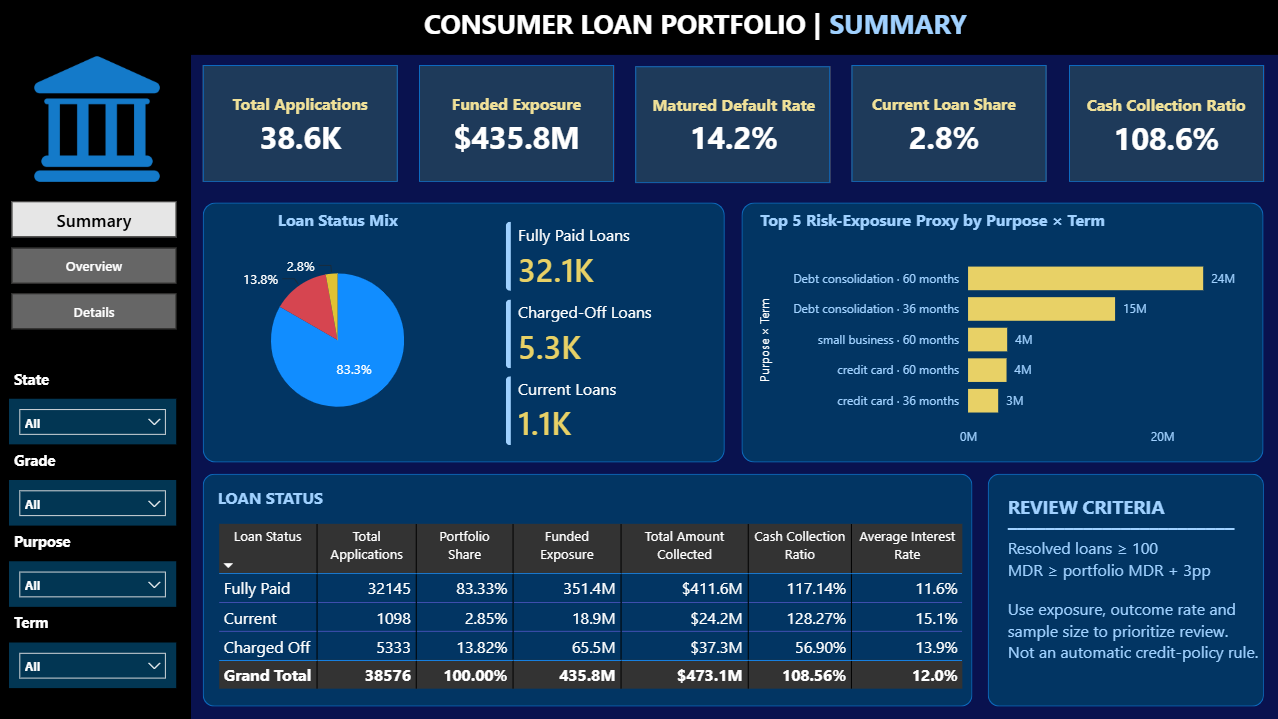

The page's visual inventory and layout, read from the dashboard file:
{"tool":"powerbi","page":{"name":"Summary","canvas":[1280,720],"ordinal":0},"visuals":[{"type":"shape","box":[0,0,1280.3,54.9],"z":0},{"type":"shape","box":[0,54.3,192,666],"z":1000},{"type":"textbox","box":[420,0,567.5,52.5],"z":2000},{"type":"shape","box":[203.4,202,522,260],"z":3000},{"type":"shape","box":[742.4,202,522,260],"z":4000},{"type":"donutChart","title":"Loan Status Mix","fields":{"Category":["bank_loan_data.loan_status"],"Y":["_Measure.Total Applications"]},"box":[213.8,208.3,250,230],"z":5000},{"type":"cardVisual","fields":{"Data":["bank_loan_data.Fully Paid Loans","_Measure.Charged-Off Loans","bank_loan_data.Current Loans"]},"box":[490.3,204.7,235.4,257.7],"z":6000},{"type":"shape","box":[203.9,474.1,769.7,232.8],"z":7000},{"type":"tableEx","title":"LOAN STATUS","fields":{"Values":["bank_loan_data.loan_status","_Measure.Total Applications","_Measure.Portfolio Share","_Measure.Funded Exposure","bank_loan_data.Total Amout Collected","_Measure.Cash Collection Ratio","bank_loan_data.Average Interest Rate"]},"box":[213.5,486.2,790.2,209.9],"z":8000},{"type":"slicer","title":"State","fields":{"Values":["bank_loan_data.grade"]},"box":[10,480,167,45.9],"z":9000},{"type":"textbox","box":[10,445,91.8,34.8],"z":10000},{"type":"slicer","title":"State","fields":{"Values":["bank_loan_data.purpose"]},"box":[10,561,167,45.9],"z":11000},{"type":"textbox","box":[10,526,91.8,34.8],"z":12000},{"type":"slicer","title":"State","fields":{"Values":["bank_loan_data.term","bank_loan_data.purpose"]},"box":[10,642,167,45.9],"z":13000},{"type":"textbox","box":[10,607.1,91.8,34.8],"z":14000},{"type":"image","box":[31.4,56.7,133.9,125.5],"z":15000},{"type":"pageNavigator","box":[12.5,201.7,165.6,130.8],"z":16000},{"type":"clusteredBarChart","title":"Top 5 Risk-Exposure Proxy by Purpose × Term","fields":{"Category":["bank_loan_data.Purpose × Term"],"Y":["_Measure.Risk-Exposure Proxy"]},"box":[756.8,208.3,521.1,245.9],"z":17000},{"type":"slicer","title":"State","fields":{"Values":["bank_loan_data.address_state"]},"box":[10,398.9,167,45.9],"z":18000},{"type":"textbox","box":[10,363.7,93.8,35],"z":19000},{"type":"shape","box":[989.3,474.1,276.3,232.8],"z":20000},{"type":"textbox","box":[1003.8,488.6,261.8,199.1],"z":21000},{"type":"shape","box":[852.8,65.3,195,117],"z":22000},{"type":"shape","box":[1069.9,65.3,195,117],"z":23000},{"type":"shape","box":[203.7,65.3,195,117],"z":24000},{"type":"shape","box":[419.7,65.3,195,117],"z":25000},{"type":"cardVisual","fields":{"Data":["_Measure.Funded Exposure"]},"box":[419.8,65.6,195.2,117.5],"z":26000},{"type":"cardVisual","fields":{"Data":["_Measure.Cash Collection Ratio"]},"box":[1056.7,68,222.2,116.6],"z":27000},{"type":"shape","box":[636.8,65.9,195,117],"z":28000},{"type":"cardVisual","fields":{"Data":["_Measure.Current Loan Share"]},"box":[843,65.6,205.6,117.5],"z":29000},{"type":"cardVisual","fields":{"Data":["_Measure.Total Applications"]},"box":[203.8,65.6,195.2,117.5],"z":30000},{"type":"cardVisual","fields":{"Data":["_Measure.Matured Default Rate"]},"box":[620.7,66.7,227.7,118],"z":31000}]}

Visuals, with their boxes in screenshot pixels (x1, y1, x2, y2), scaled from the page's 1280x720 canvas onto the 1278x719 screenshot:
shape: x1=0, y1=0, x2=1277, y2=55
shape: x1=0, y1=54, x2=192, y2=718
textbox: x1=419, y1=0, x2=986, y2=52
shape: x1=203, y1=202, x2=724, y2=461
shape: x1=741, y1=202, x2=1262, y2=461
"Loan Status Mix" donutChart: x1=213, y1=208, x2=463, y2=438
cardVisual - bank_loan_data.Fully Paid Loans x _Measure.Charged-Off Loans: x1=490, y1=204, x2=725, y2=462
shape: x1=204, y1=473, x2=972, y2=706
"LOAN STATUS" tableEx: x1=213, y1=486, x2=1002, y2=695
"State" slicer: x1=10, y1=479, x2=177, y2=525
textbox: x1=10, y1=444, x2=102, y2=479
"State" slicer: x1=10, y1=560, x2=177, y2=606
textbox: x1=10, y1=525, x2=102, y2=560
"State" slicer: x1=10, y1=641, x2=177, y2=687
textbox: x1=10, y1=606, x2=102, y2=641
image: x1=31, y1=57, x2=165, y2=182
pageNavigator: x1=12, y1=201, x2=178, y2=332
"Top 5 Risk-Exposure Proxy by Purpose × Term" clusteredBarChart: x1=756, y1=208, x2=1276, y2=454
"State" slicer: x1=10, y1=398, x2=177, y2=444
textbox: x1=10, y1=363, x2=104, y2=398
shape: x1=988, y1=473, x2=1264, y2=706
textbox: x1=1002, y1=488, x2=1264, y2=687
shape: x1=851, y1=65, x2=1046, y2=182
shape: x1=1068, y1=65, x2=1263, y2=182
shape: x1=203, y1=65, x2=398, y2=182
shape: x1=419, y1=65, x2=614, y2=182
cardVisual - _Measure.Funded Exposure: x1=419, y1=66, x2=614, y2=183
cardVisual - _Measure.Cash Collection Ratio: x1=1055, y1=68, x2=1277, y2=184
shape: x1=636, y1=66, x2=831, y2=183
cardVisual - _Measure.Current Loan Share: x1=842, y1=66, x2=1047, y2=183
cardVisual - _Measure.Total Applications: x1=203, y1=66, x2=398, y2=183
cardVisual - _Measure.Matured Default Rate: x1=620, y1=67, x2=847, y2=184
